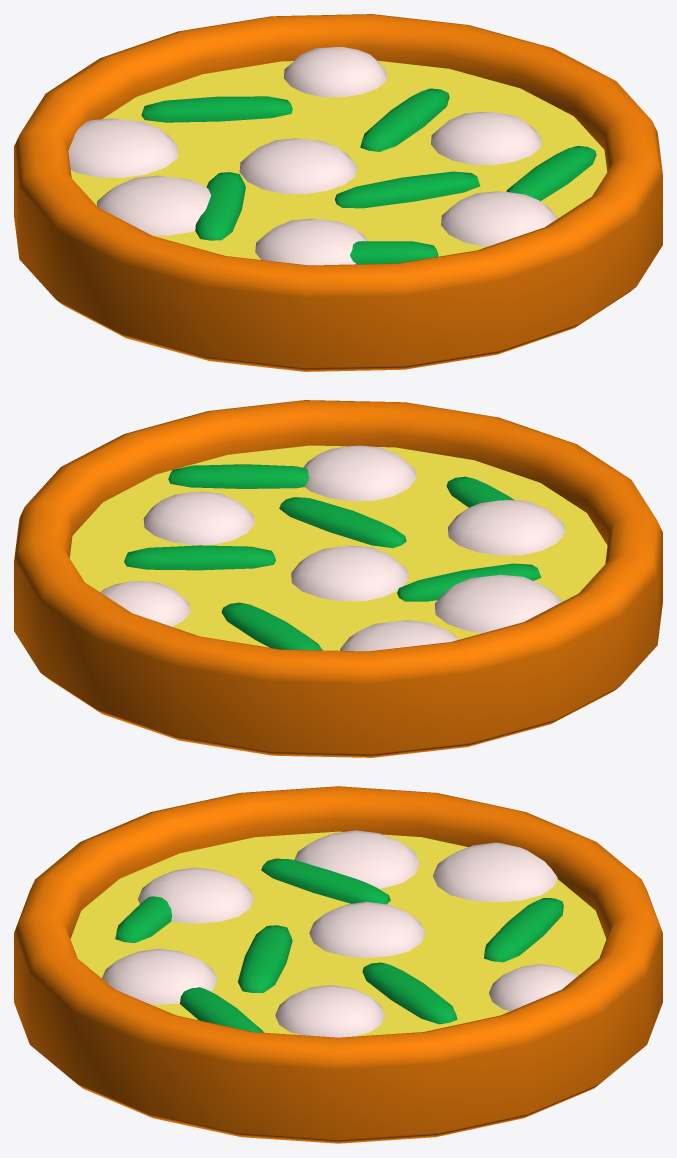
File: Store_1_Pizza_2.glb
3 views of the same model, one above another, from view 1: azimuth 30°, elevation 25°; view 2: azimuth 150°, elevation 25°; view 3: azimuth 270°, elevation 25° (orthographic).
Parts seen in each view (by area): view 1: Store_1_Pizza_2; view 2: Store_1_Pizza_2; view 3: Store_1_Pizza_2.
Boxes of the visible parts, x1,y1,x2,y2 form: Store_1_Pizza_2: (14,14,662,371); Store_1_Pizza_2: (14,400,662,757); Store_1_Pizza_2: (14,786,662,1143).
Size of the model in its own units: 0.5363 by 0.0858 by 0.5363.
1 material, 1 textured.
